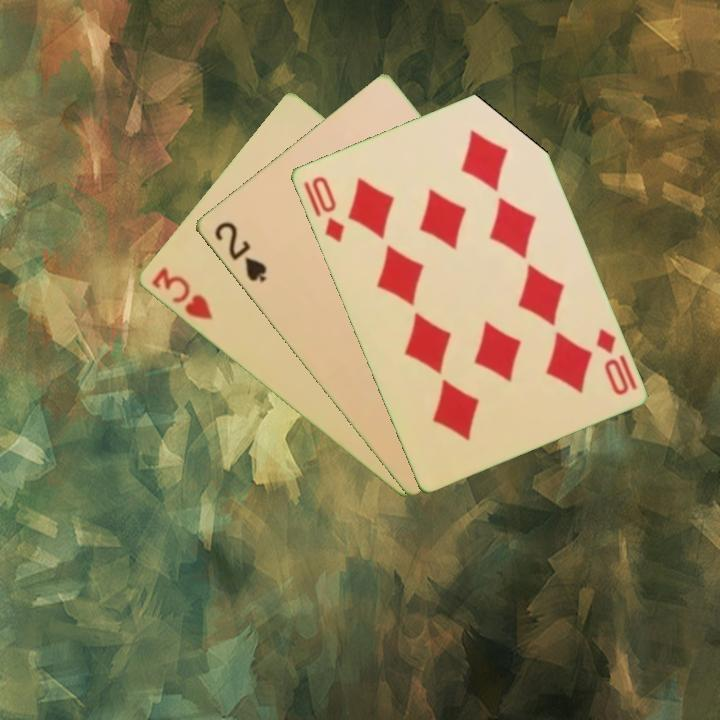10d: (592, 324, 640, 398), (299, 172, 347, 245)
2s: (210, 218, 270, 286)
3h: (147, 263, 215, 323)
